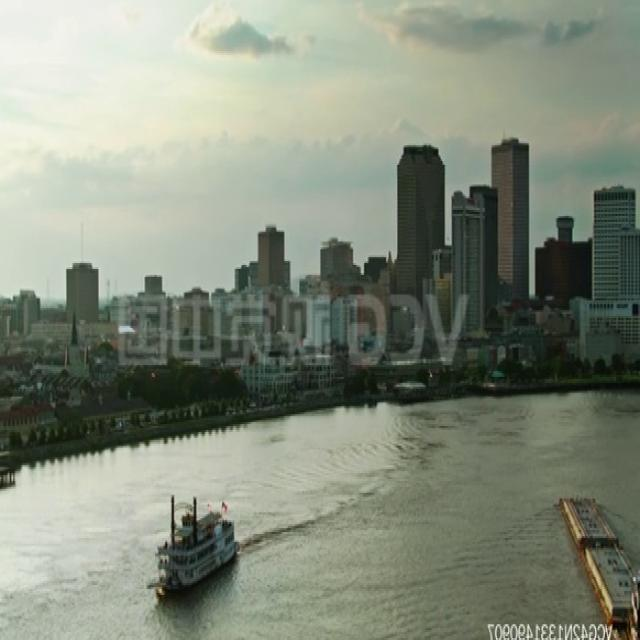cargoship: (561, 483, 640, 640)
passenger ship: (150, 497, 238, 591)
